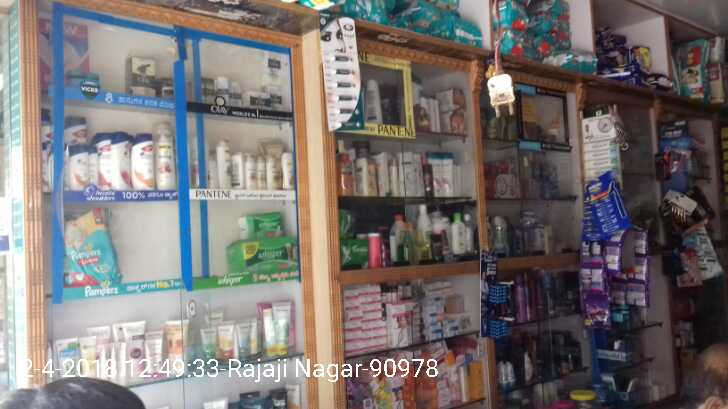vicks: (67, 68, 100, 89)
